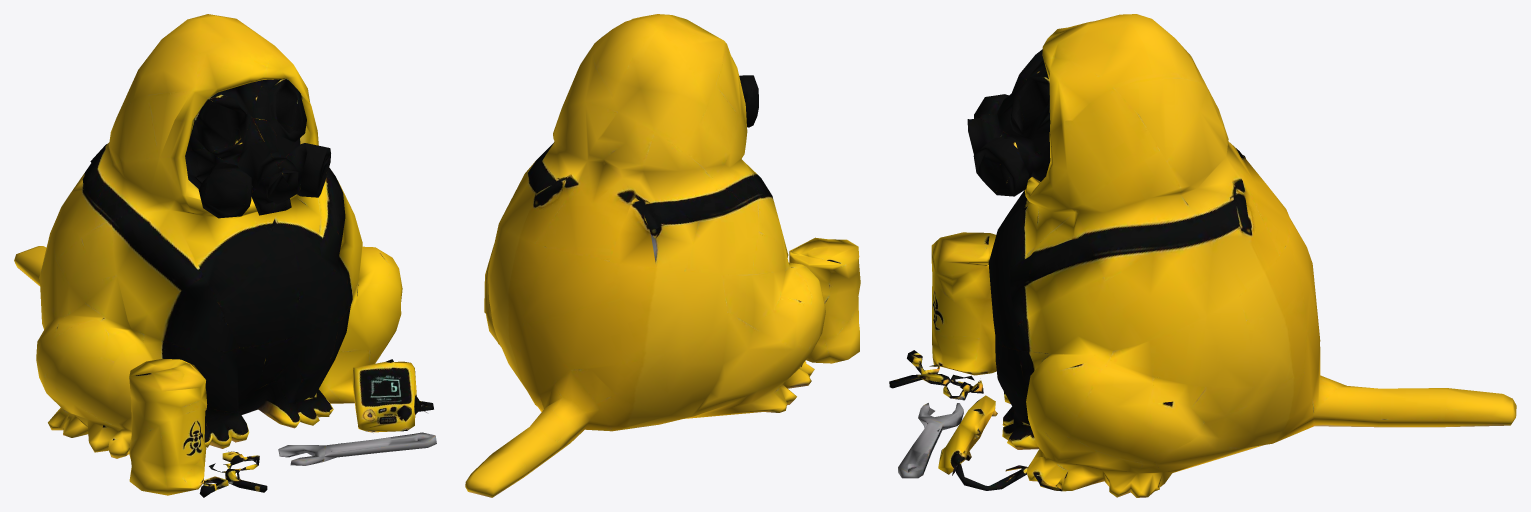
The model's file is biohazard.glb.
3 views of the same model, side by side, from view 1: azimuth 30°, elevation 25°; view 2: azimuth 150°, elevation 25°; view 3: azimuth 270°, elevation 25° (orthographic). The views are drawn at different scales.
Visible parts, largest first — view 1: mesh_node; view 2: mesh_node; view 3: mesh_node.
Boxes of the visible parts, left/top/right/bottom form: mesh_node: left=14, top=14, right=436, bottom=497; mesh_node: left=465, top=14, right=860, bottom=497; mesh_node: left=889, top=14, right=1516, bottom=497.
Bounding box in the file's own units: 1.27 × 1.34 × 1.9.
1 material, 1 textured.
